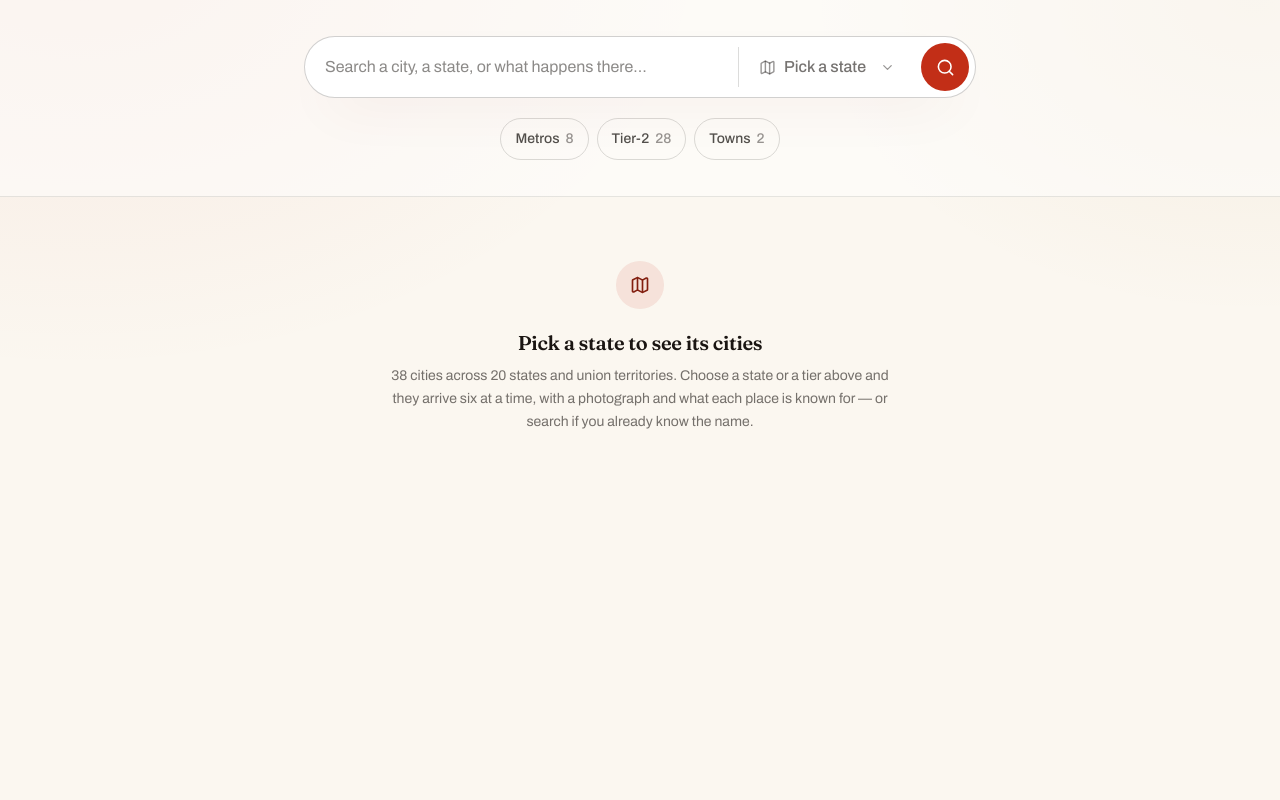
Scenario: CityExplorer › searches across every state without picking one first
In the search field named "Search cities": (522, 67) x1=305 y1=37 x2=738 y2=97, type "Mainpuri"
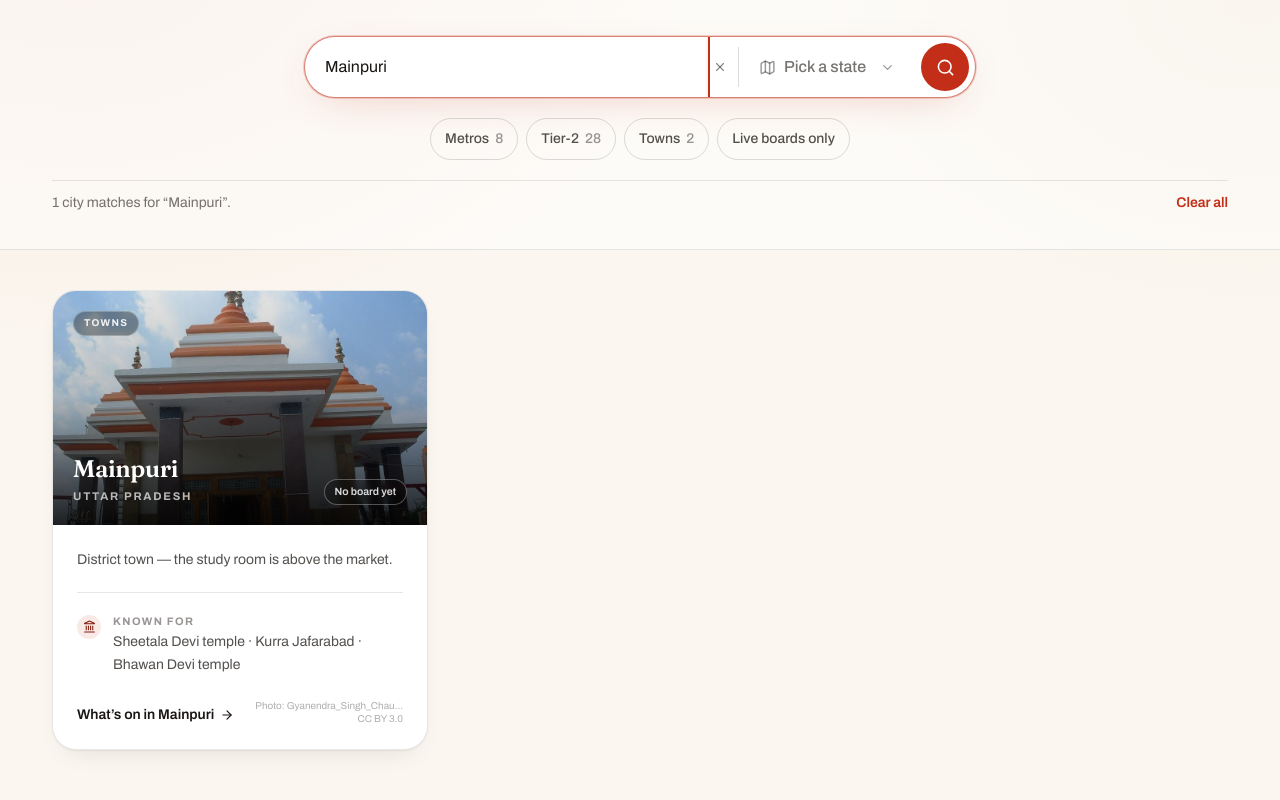
Now the heading "Mainpuri" is shown, box x1=73 y1=454 x2=192 y2=484
